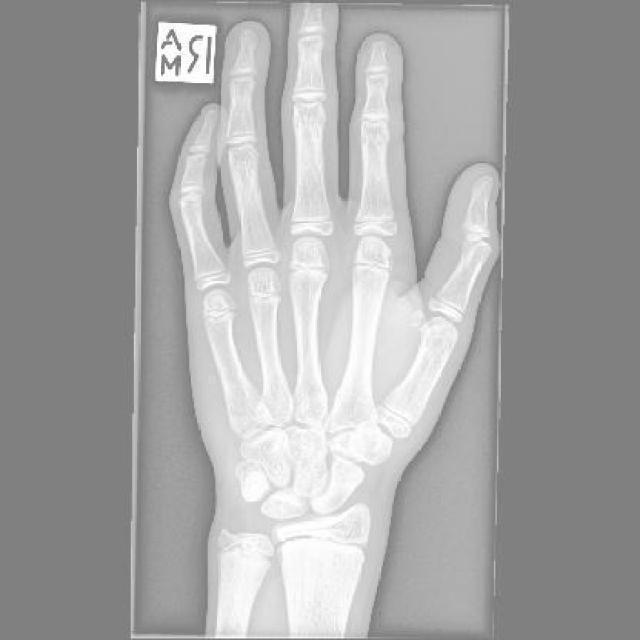Fracture: (411, 314, 427, 330)
